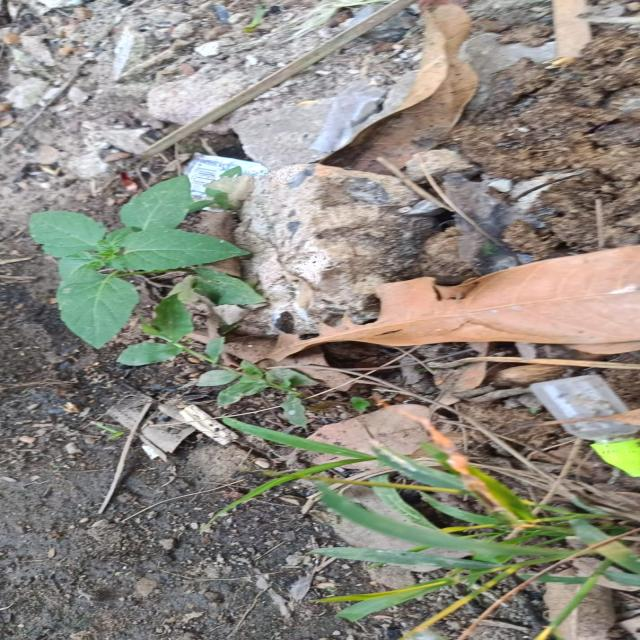plant: (29, 176, 263, 348), (117, 294, 221, 367), (203, 368, 294, 402)
